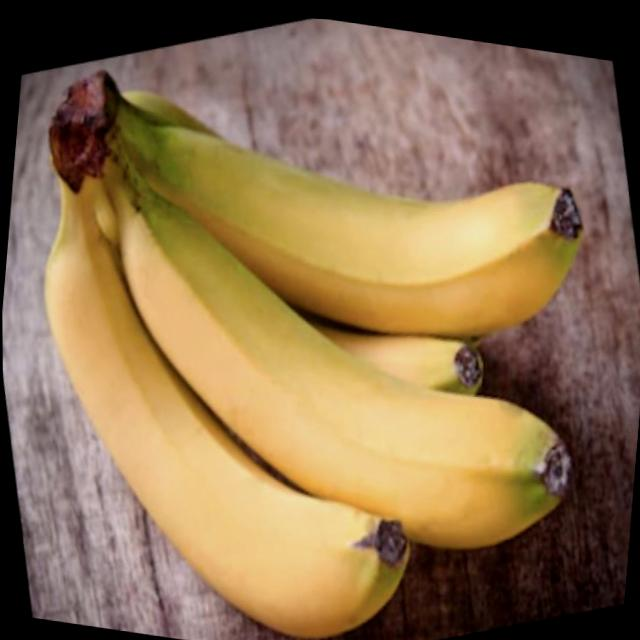Banana: (5, 58, 602, 640)
